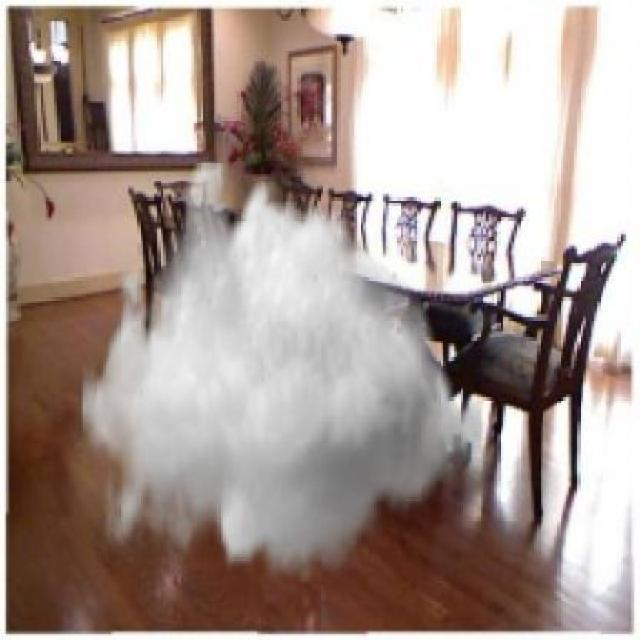smoke: (94, 157, 466, 577)
